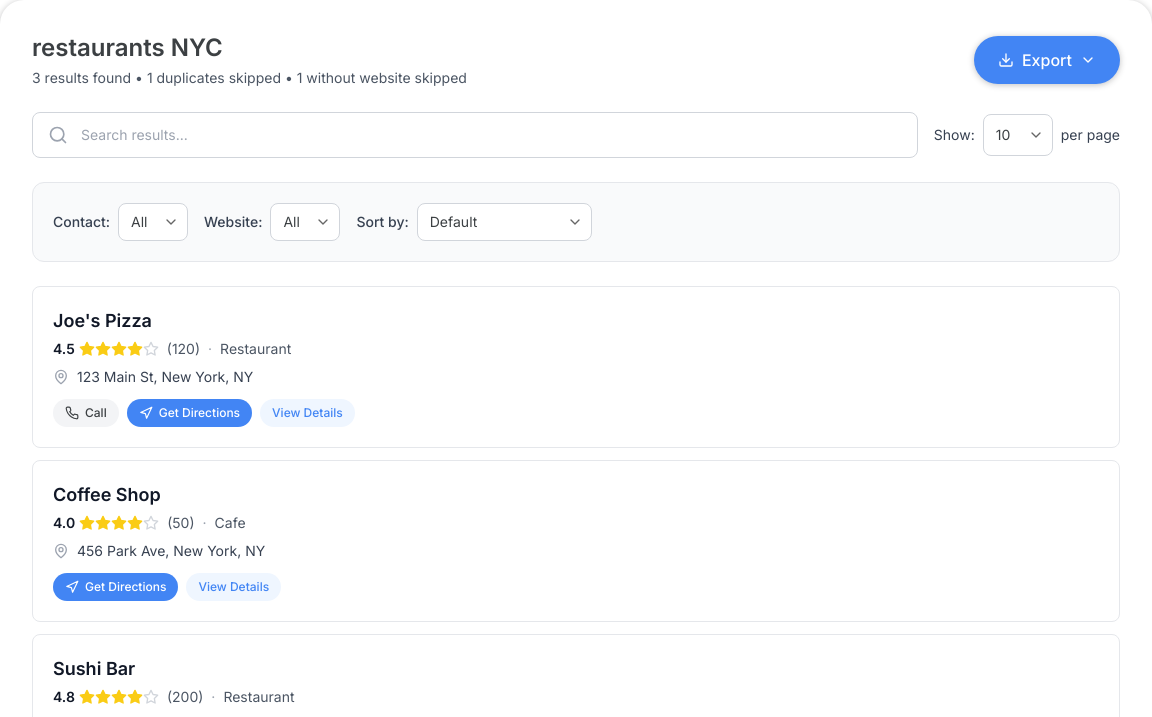
Test: ResultsTable › should filter by contact info
Select "Yes" in the dropdown labelled "Contact:" at (153, 222), box [118,203,188,241]
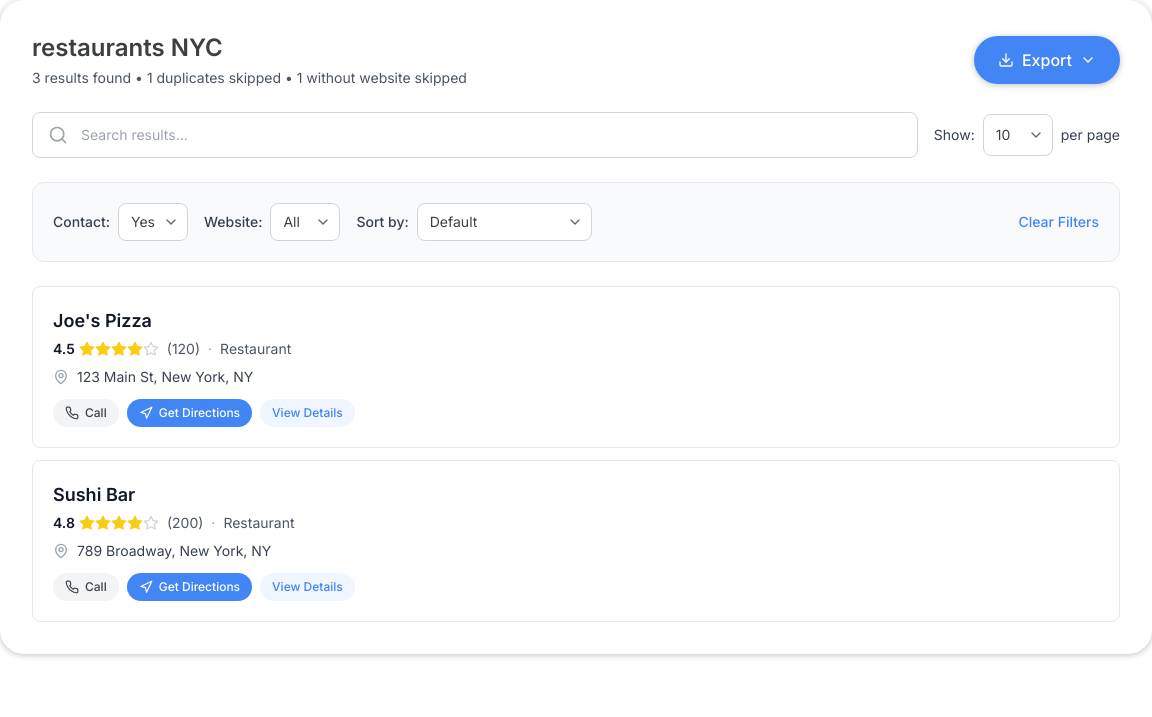
Check: the heading "Joe's Pizza" is shown, box [53,310,152,331]
Check: the heading "Sushi Bar" is shown, box [53,484,135,505]
Check: the heading "Coffee Shop" is gone
